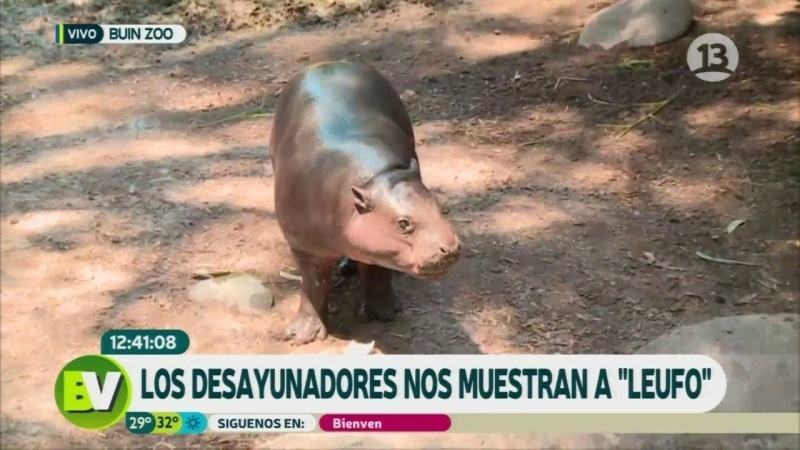hipopotamo: (242, 54, 485, 347)
